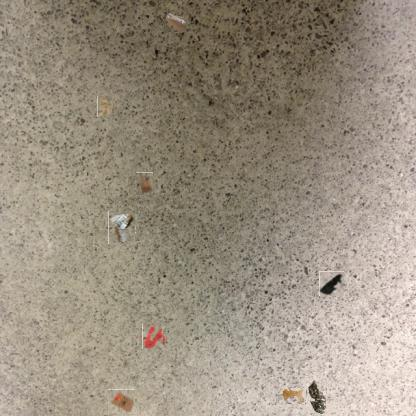dirty: (107, 212, 137, 243), (305, 376, 327, 416), (108, 388, 135, 415), (319, 271, 344, 296), (163, 10, 189, 32), (136, 172, 154, 195), (96, 97, 114, 116)
liquid: (141, 325, 165, 348), (284, 388, 308, 404)
